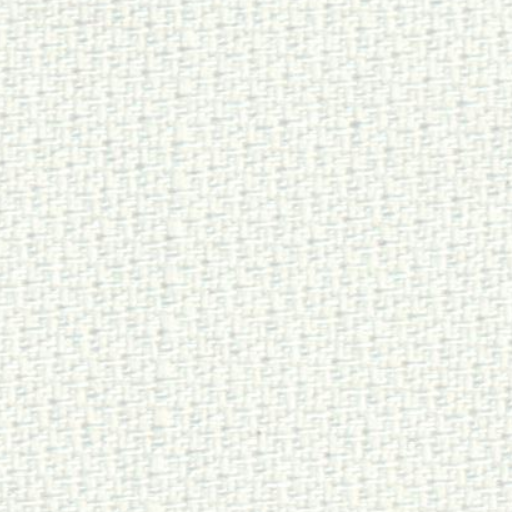TuoSha: (135, 14, 216, 502)
